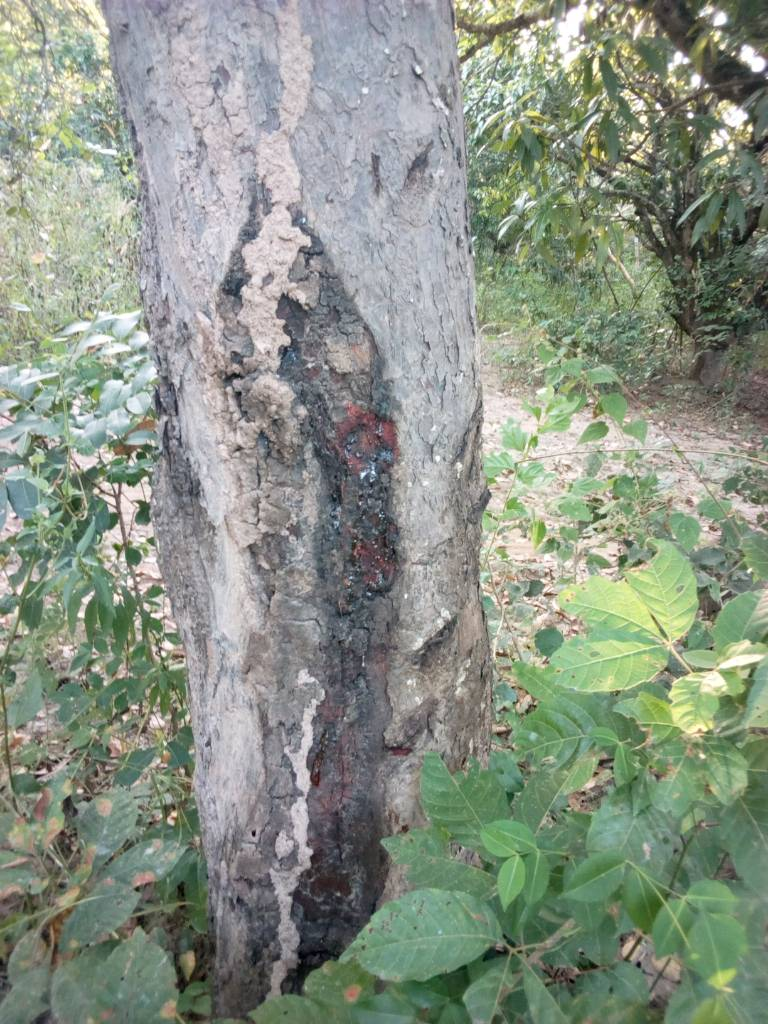Termites: (166, 7, 325, 361)
